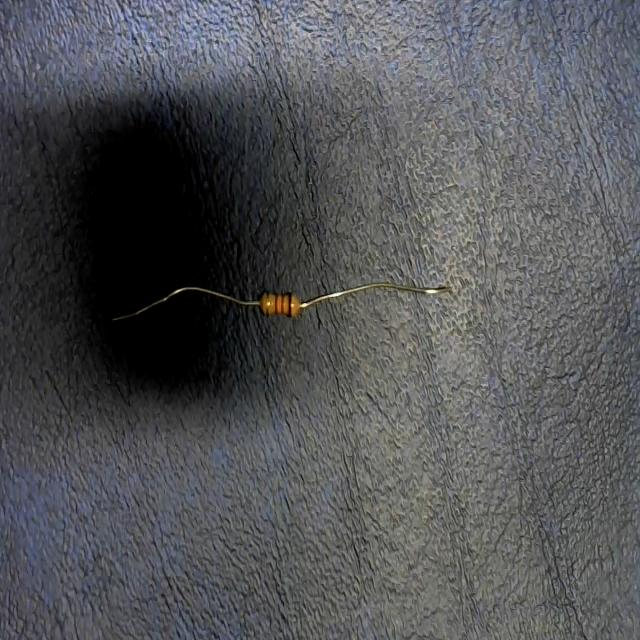resistor: (131, 278, 440, 319)
